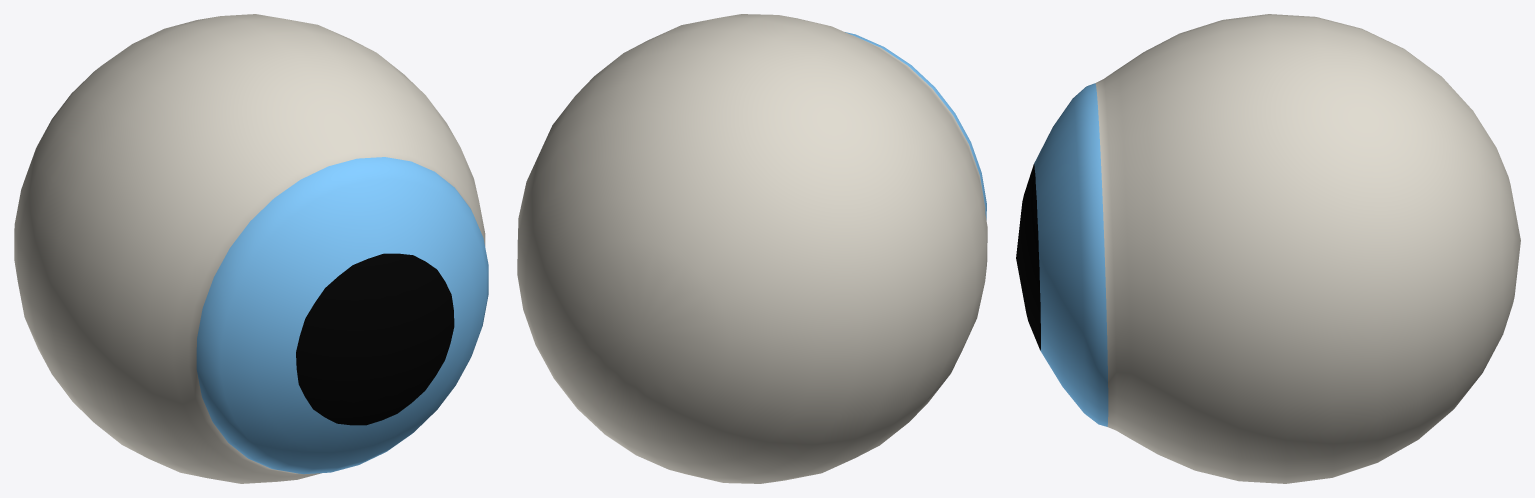
The model's file is eyeball.glb.
The picture shows the model from 3 angles, left to right: view 1: azimuth 30°, elevation 25°; view 2: azimuth 150°, elevation 25°; view 3: azimuth 270°, elevation 25°; orthographic projection.
Parts seen in each view (by area): view 1: Eye.003; view 2: Eye.003; view 3: Eye.003.
Part boxes in pixels (x1,y1,x2,y2): Eye.003: (14,14,488,483); Eye.003: (517,14,987,483); Eye.003: (1016,14,1520,483).
Size of the model in its own units: 0.5224 by 0.5226 by 0.5627.
